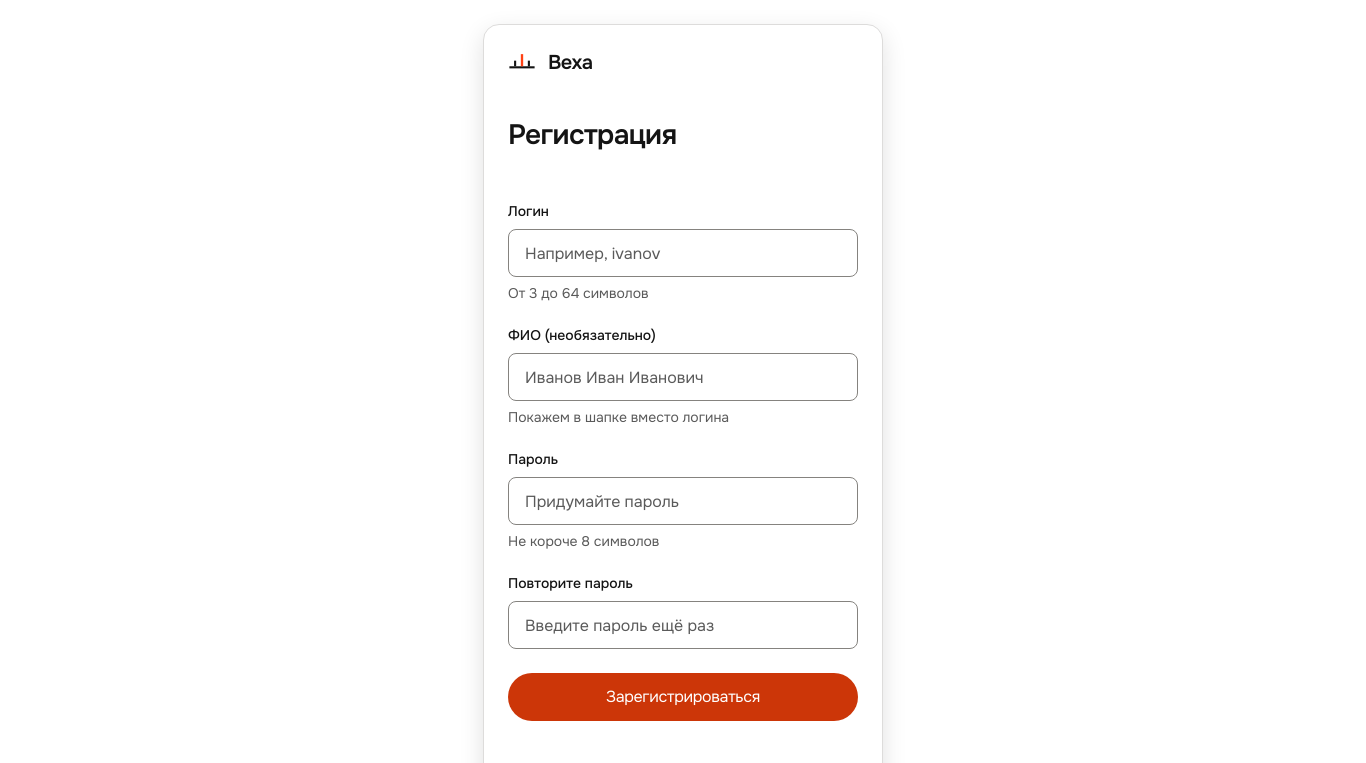
Scenario: RegisterPage › registers, stores the token and opens sites
The width and height of the screenshot is (1366, 763).
In the field labelled "Логин": (683,253) [508,229,858,277], type "newbie"
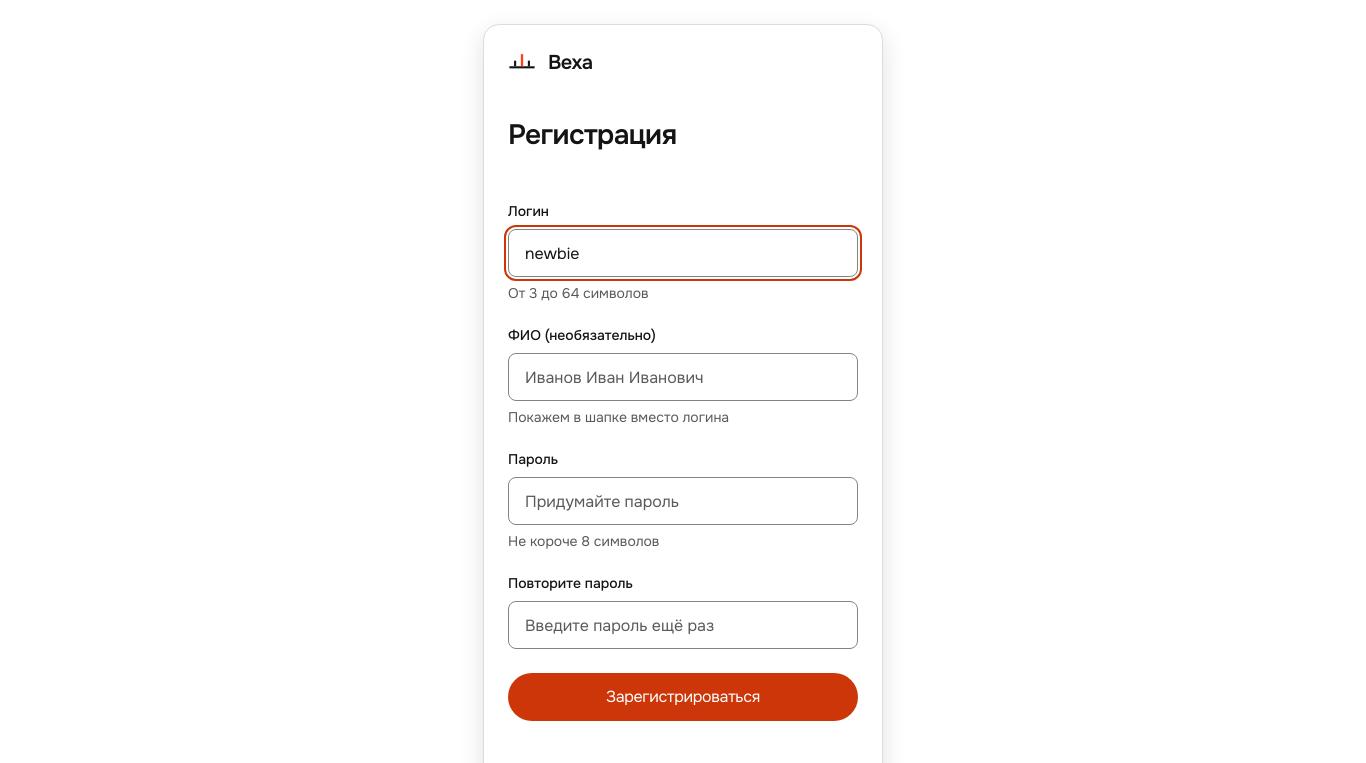
In the password field labelled "Пароль": (683,501) [508,477,858,525], type "long-enough-password"
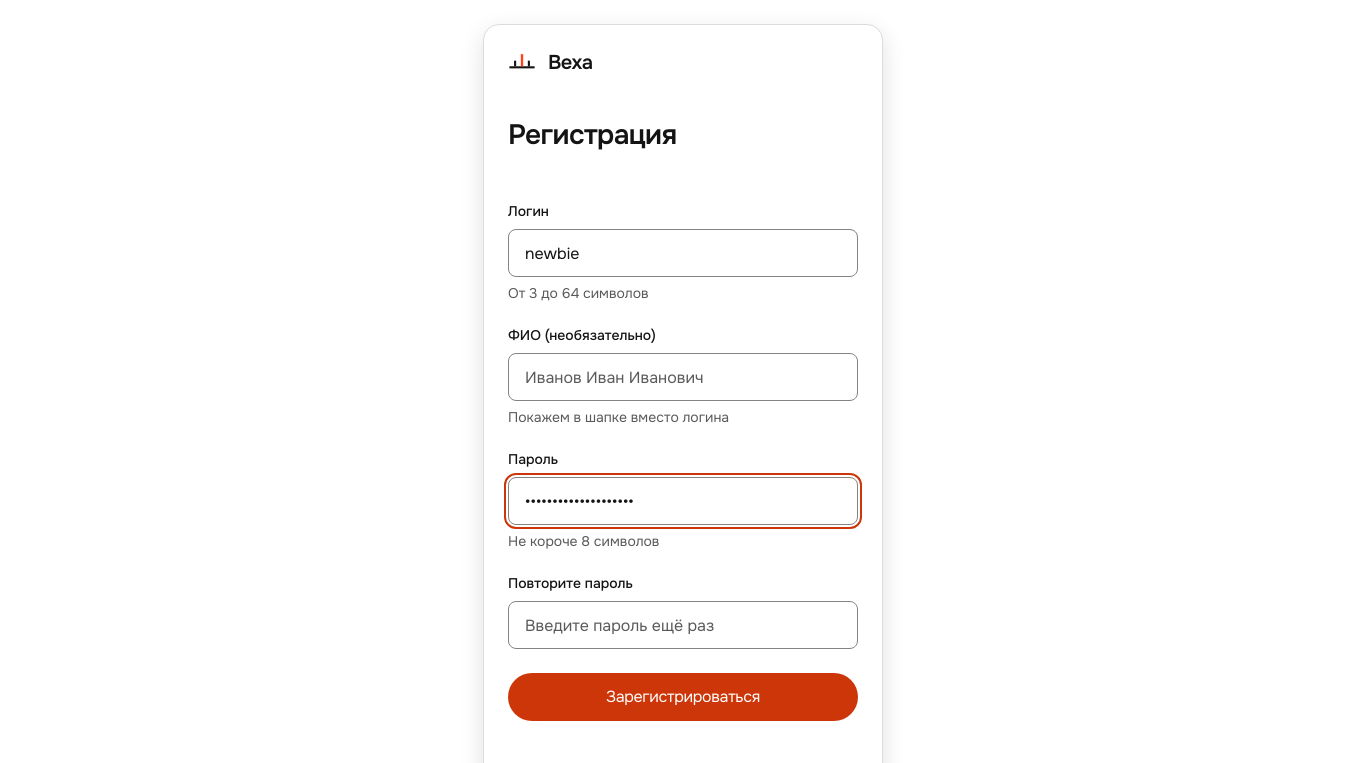
In the password field labelled "Повторите пароль": (683,625) [508,601,858,649], type "long-enough-password"
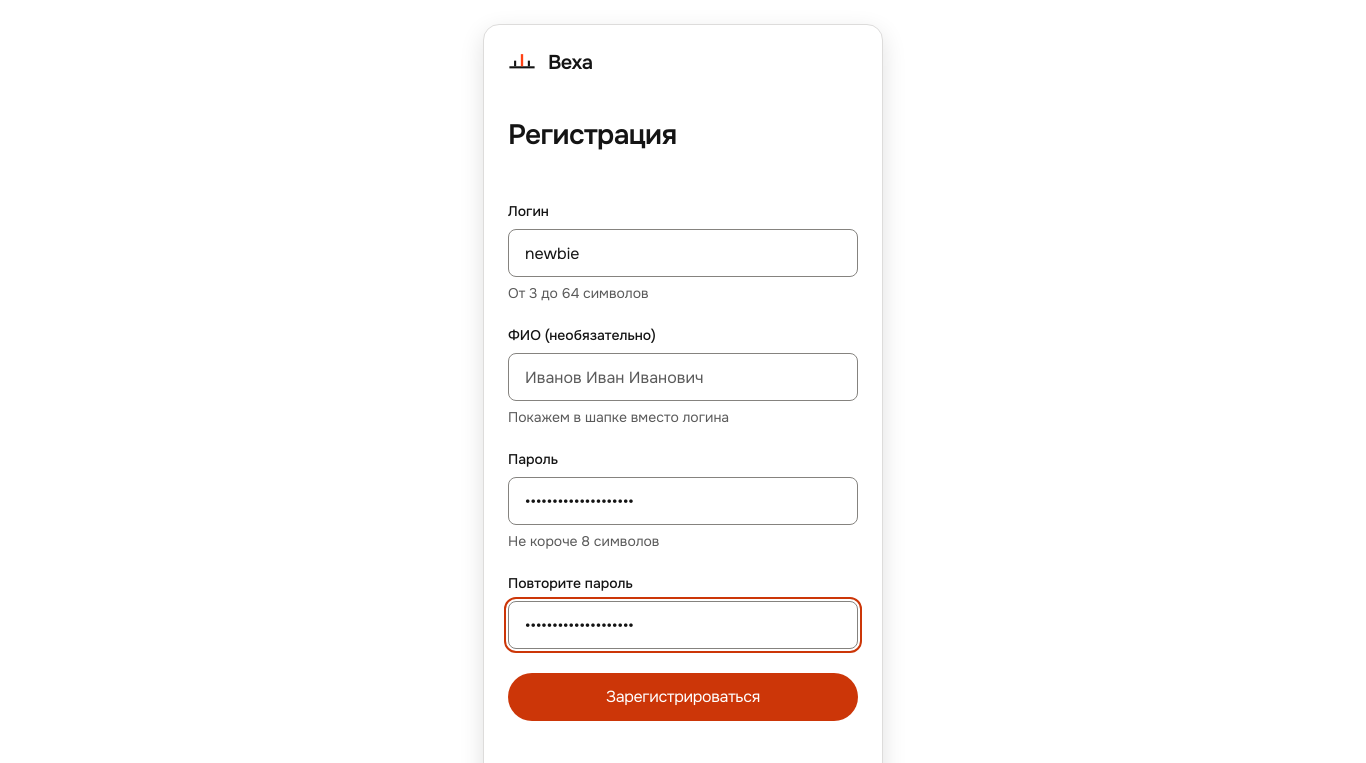
Click the button "Зарегистрироваться": (683,697) [508,673,858,721]
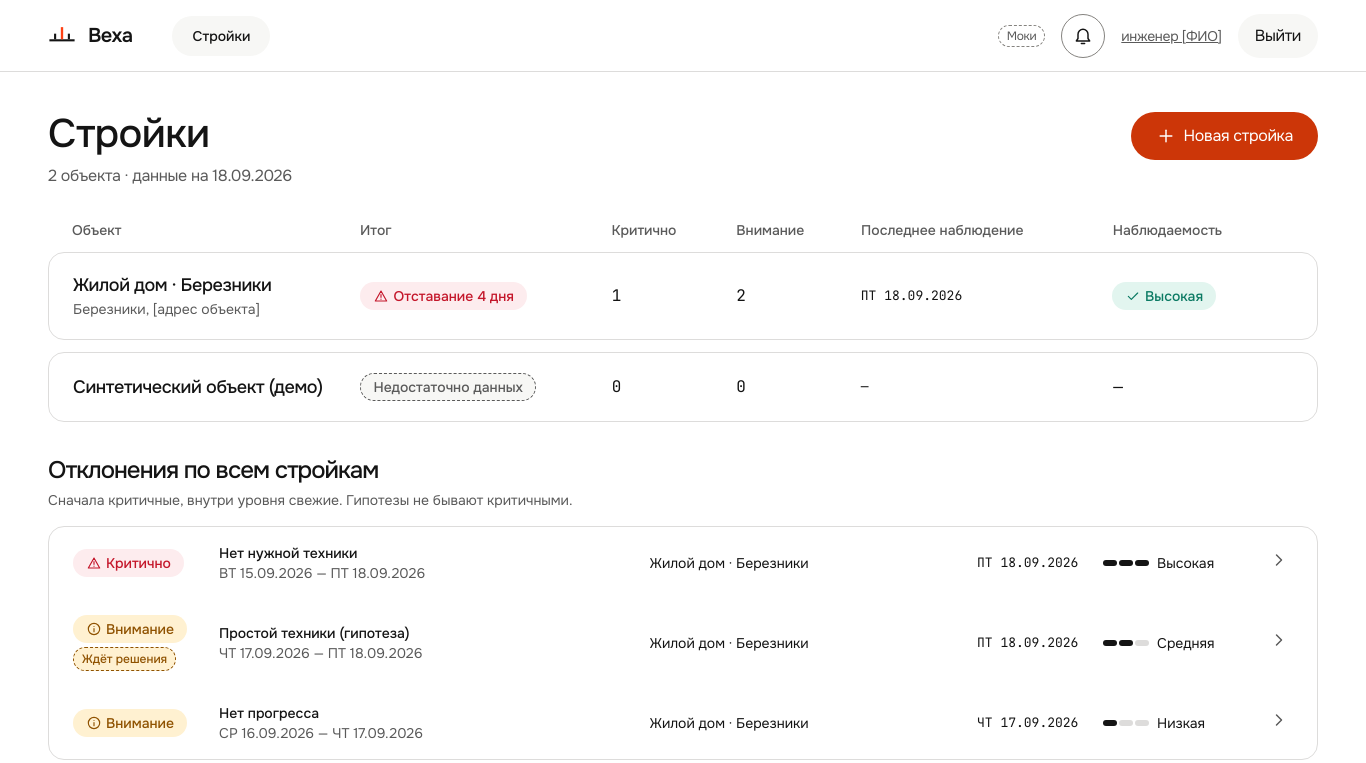
Check: the heading "Стройки" is shown, box [48,108,210,159]
